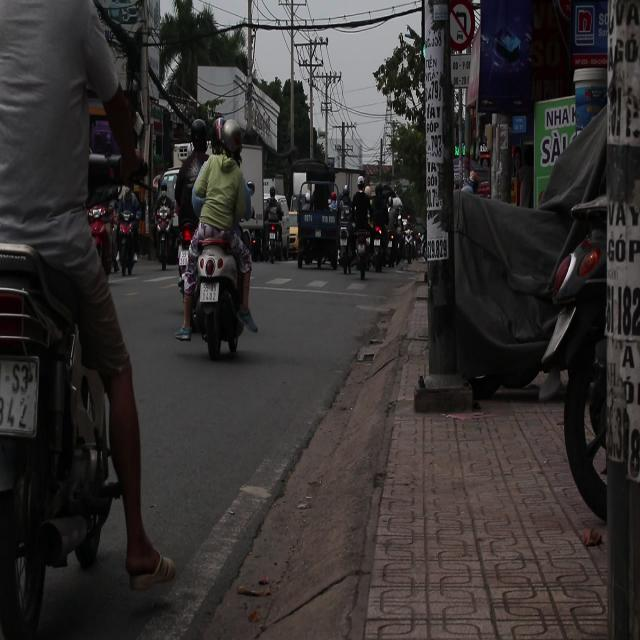motorbike: (0, 256, 136, 572), (200, 228, 252, 366), (100, 186, 142, 276), (153, 205, 173, 278), (356, 228, 375, 284)
truck: (296, 185, 342, 275)
